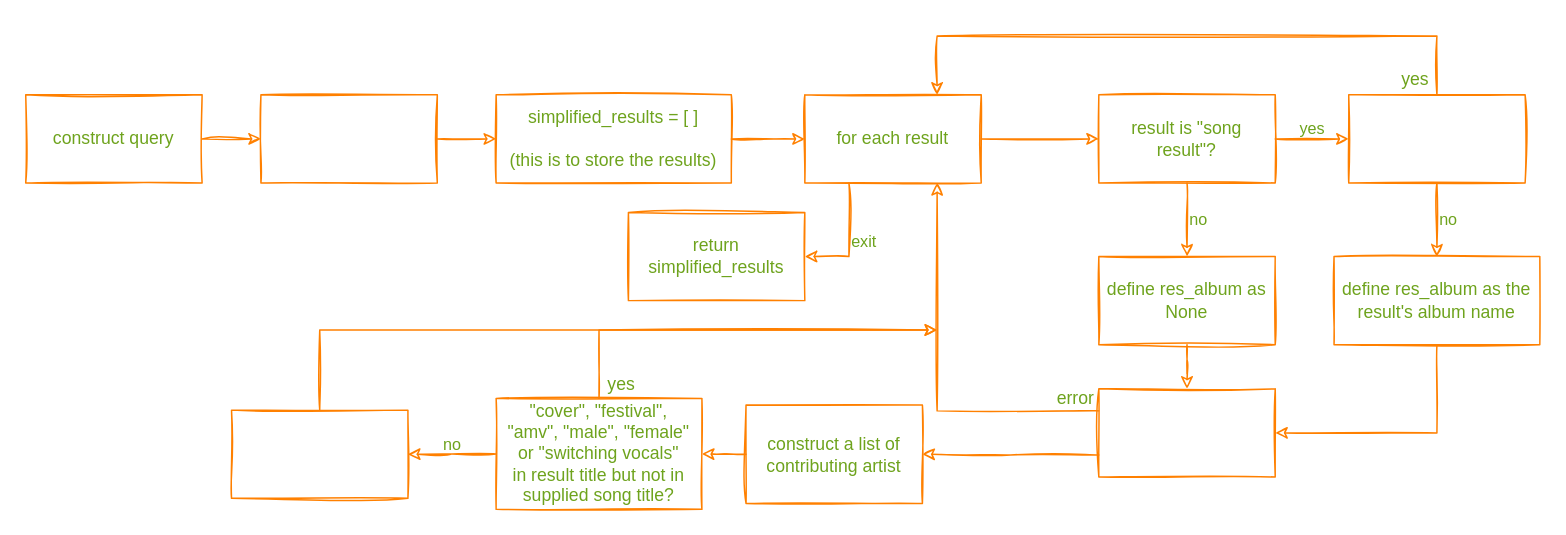
This 1566x535 diagram has some shape labels left out. Each missing label, with the centre of its shape:
album is undefined?: (1436,138)
calculate result duration in seconds (str to int): (1186,432)
construct simplified result and append to simplified_results: (319,453)
query for both "song" and "video" results: (348,138)
